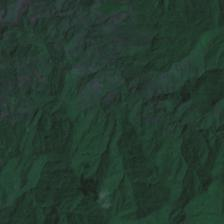landslides: (103, 93, 117, 103)
